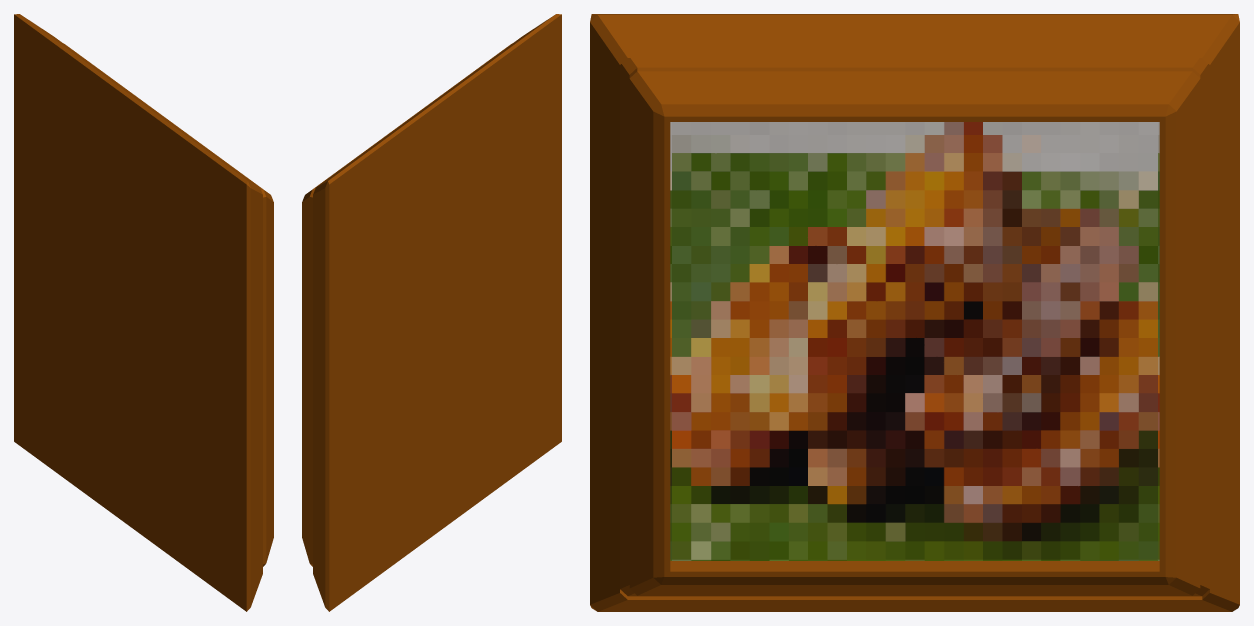
File: Image_SabaBananaCues.glb
3 renders of one model, left to right at view 1: azimuth 30°, elevation 25°; view 2: azimuth 150°, elevation 25°; view 3: azimuth 270°, elevation 25°, orthographic. The views are drawn at different scales.
Parts seen in each view (by area): view 1: Plane; view 2: Plane; view 3: Plane.
Boxes of the visible parts, bbox=[...] form: Plane: bbox=[14, 14, 273, 611]; Plane: bbox=[302, 14, 561, 611]; Plane: bbox=[590, 14, 1239, 611].
Size of the model in its own units: 0.0513 by 0.3996 by 0.3942.
2 materials, 1 textured.
